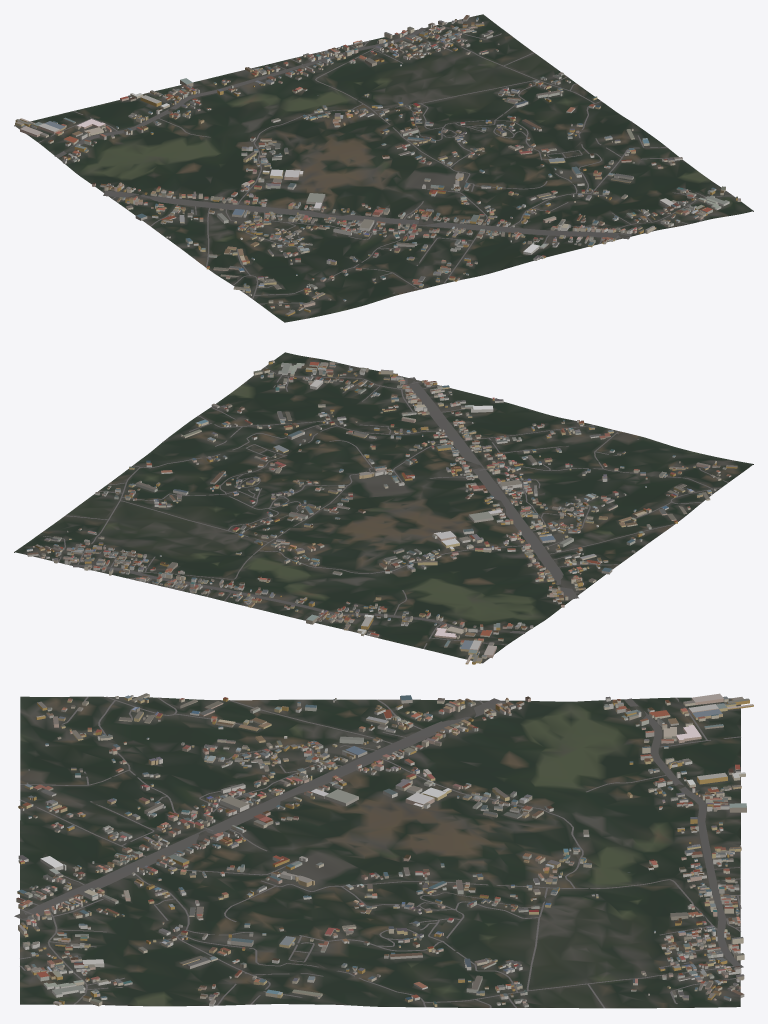
3 renders of one model, top to bottom at view 1: azimuth 30°, elevation 25°; view 2: azimuth 150°, elevation 25°; view 3: azimuth 270°, elevation 25°, orthographic. The views are drawn at different scales.
Visible parts, largest first — view 1: ground, buildings, roads; view 2: ground, buildings, roads; view 3: ground, buildings, roads.
Boxes of the visible parts, x1,y1,x2,y2 form: ground: [14, 14, 753, 322]; buildings: [15, 15, 740, 316]; roads: [38, 20, 733, 304]; ground: [14, 352, 753, 663]; buildings: [26, 360, 737, 664]; roads: [38, 363, 728, 648]; ground: [20, 696, 740, 1008]; buildings: [16, 693, 753, 1007]; roads: [14, 696, 743, 1008].
Bounding box in the file's own units: 1417 × 32.03 × 1439.
